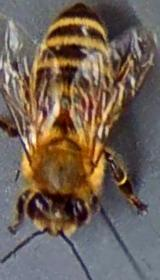varroa_mite: (72, 94, 102, 119)
